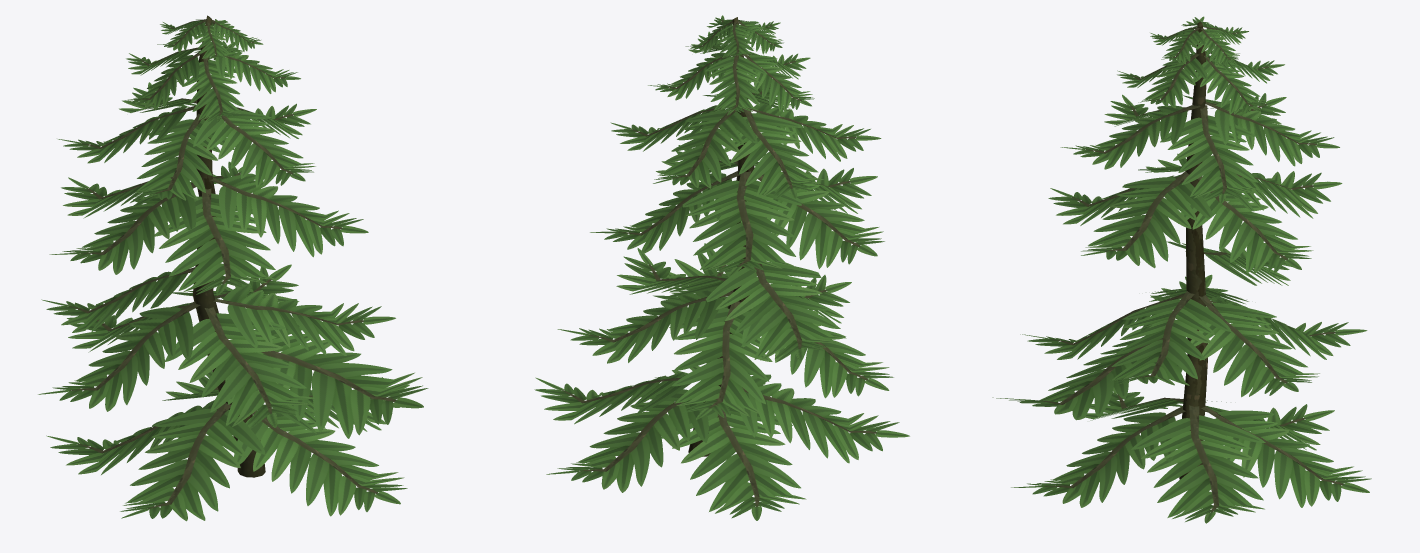
3 views of the same model, side by side, from view 1: azimuth 30°, elevation 25°; view 2: azimuth 150°, elevation 25°; view 3: azimuth 270°, elevation 25° (orthographic). The views are drawn at different scales.
Parts seen in each view (by area): view 1: 7e2e11a73c6c1f6b77c7c18c44a87655900818e94c168e7a92bb0a48cc87; view 2: 7e2e11a73c6c1f6b77c7c18c44a87655900818e94c168e7a92bb0a48cc87; view 3: 7e2e11a73c6c1f6b77c7c18c44a87655900818e94c168e7a92bb0a48cc87.
Part boxes in pixels (x1,y1,x2,y2): 7e2e11a73c6c1f6b77c7c18c44a87655900818e94c168e7a92bb0a48cc87: (38,15,428,521); 7e2e11a73c6c1f6b77c7c18c44a87655900818e94c168e7a92bb0a48cc87: (534,15,909,520); 7e2e11a73c6c1f6b77c7c18c44a87655900818e94c168e7a92bb0a48cc87: (992,16,1371,523).
Size of the model in its own units: 6.88 by 8.1 by 7.29.
2 materials, 2 textured.
